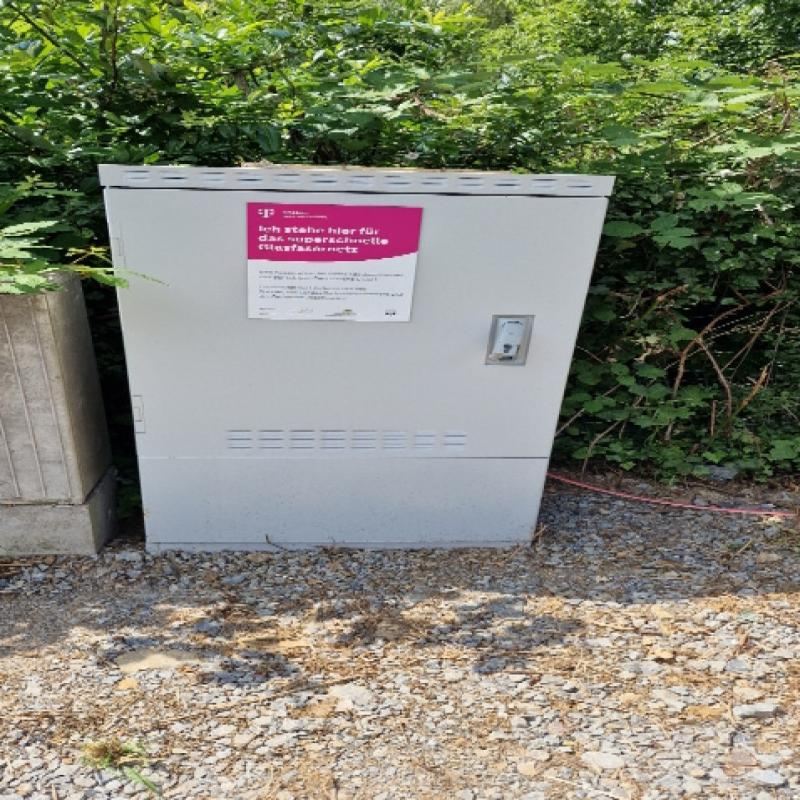NT-Gehause: (98, 164, 610, 546)
Steaker: (252, 204, 414, 322)
